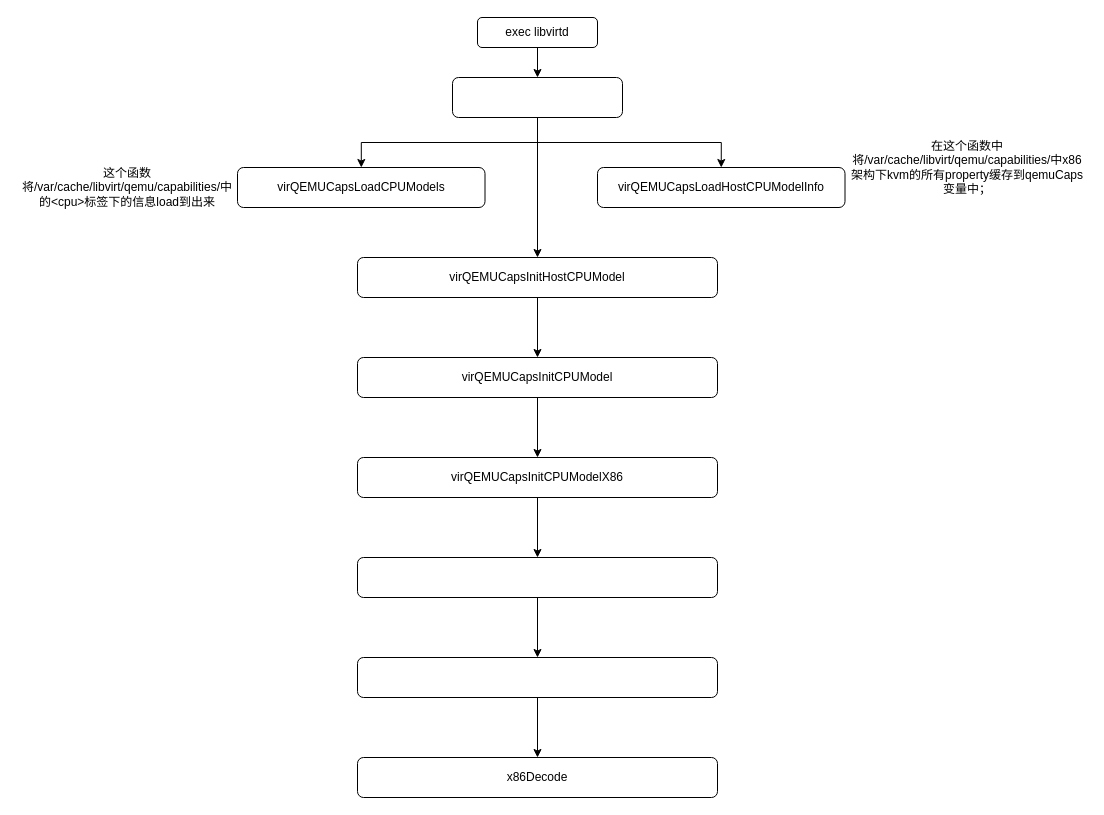
Some shapes in this 1104 by 815 pixel diagram are drawn without their labels. Each missing label, with the box of its shape:
cpuDecode: (356, 556, 718, 598)
driver->decode(cpu, data, models) x86DecodeCPUData: (356, 656, 718, 698)
virQEMUCapsLoadCache: (452, 76, 622, 118)
